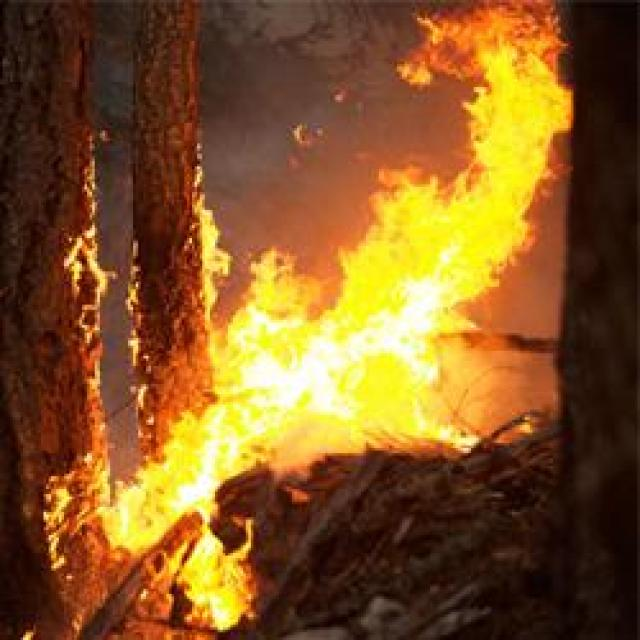fire: (319, 185, 476, 438), (240, 328, 318, 434), (488, 70, 544, 202), (40, 459, 100, 572), (191, 561, 243, 618), (178, 436, 222, 498), (112, 498, 160, 552)
